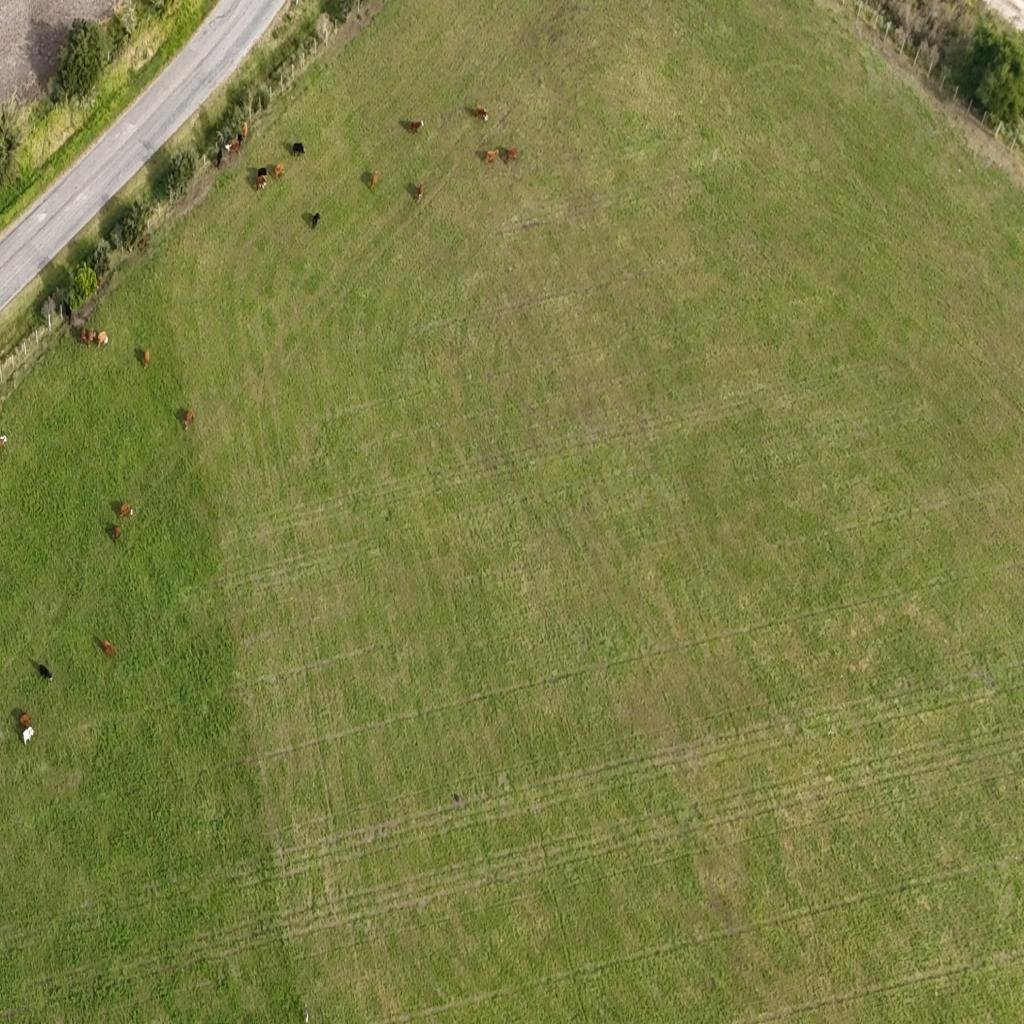cow: (38, 660, 54, 682), (226, 139, 240, 160), (119, 502, 134, 520), (102, 639, 116, 658), (22, 724, 34, 746), (111, 522, 123, 542), (474, 106, 488, 123), (408, 118, 422, 134), (504, 148, 517, 165), (19, 713, 32, 730), (256, 174, 267, 192), (486, 149, 498, 165), (292, 142, 304, 158), (184, 411, 194, 430), (98, 331, 108, 349), (240, 122, 248, 144), (274, 163, 284, 180), (416, 183, 424, 204), (370, 170, 378, 190), (310, 212, 320, 228), (216, 148, 223, 170), (88, 329, 96, 347), (80, 328, 88, 346), (143, 348, 150, 368), (138, 237, 146, 252)
